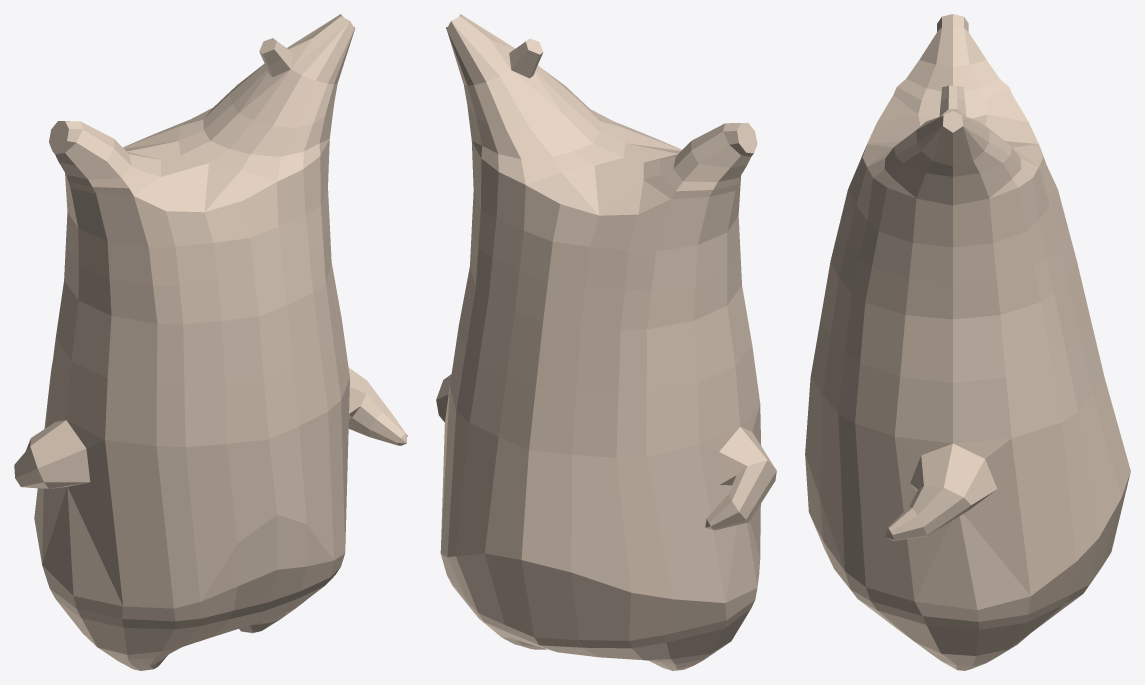
Rendered from frame_0034.obj.
The picture shows the model from 3 angles, left to right: view 1: azimuth 30°, elevation 25°; view 2: azimuth 150°, elevation 25°; view 3: azimuth 270°, elevation 25°; orthographic projection.
Parts seen in each view (by area): view 1: korok; view 2: korok; view 3: korok.
Part boxes in pixels (x1=…): korok: x1=14, y1=14, x2=407, y2=670; korok: x1=436, y1=14, x2=776, y2=670; korok: x1=805, y1=14, x2=1130, y2=670.
Size of the model in its own units: 1.3 by 2.16 by 1.06.
